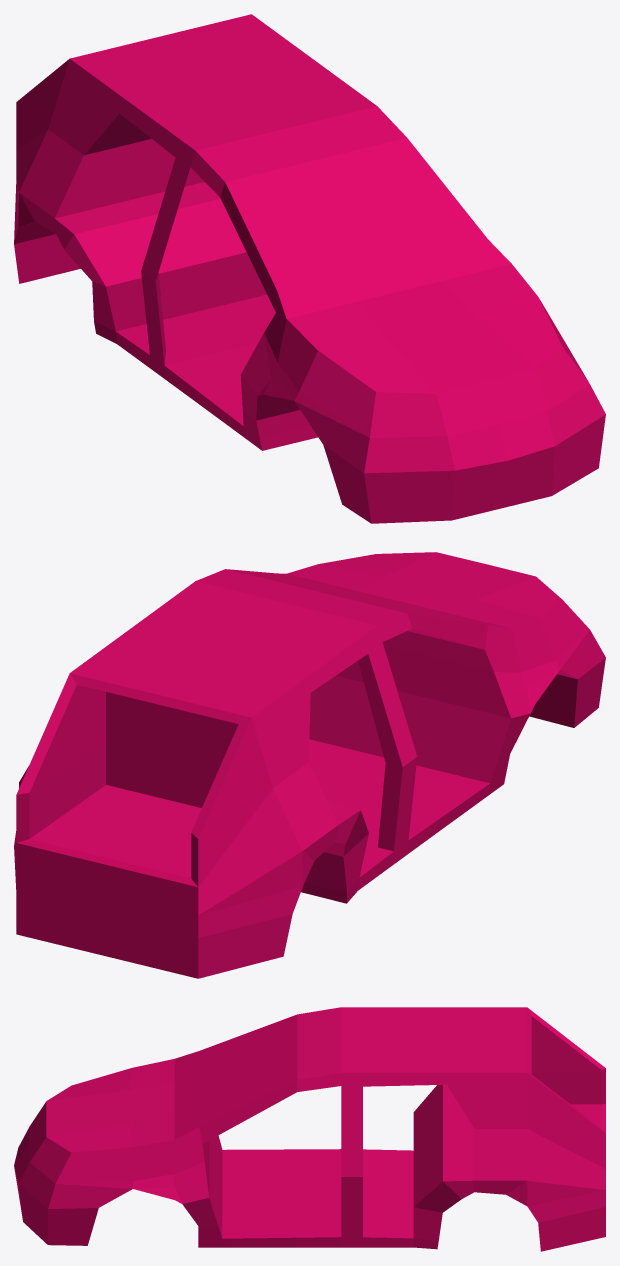
The model's file is Car_Body_Collider.fbx.
The picture shows the model from 3 angles, top to bottom: view 1: azimuth 30°, elevation 25°; view 2: azimuth 150°, elevation 25°; view 3: azimuth 270°, elevation 25°; orthographic projection. The views are drawn at different scales.
Visible parts, largest first — view 1: Car_Body_Collider; view 2: Car_Body_Collider; view 3: Car_Body_Collider.
Boxes of the visible parts, x1=… form: Car_Body_Collider: x1=14, y1=14, x2=605, y2=523; Car_Body_Collider: x1=14, y1=552, x2=605, y2=978; Car_Body_Collider: x1=14, y1=1007, x2=605, y2=1251.
Bounding box in the file's own units: 196 × 145 × 474.
